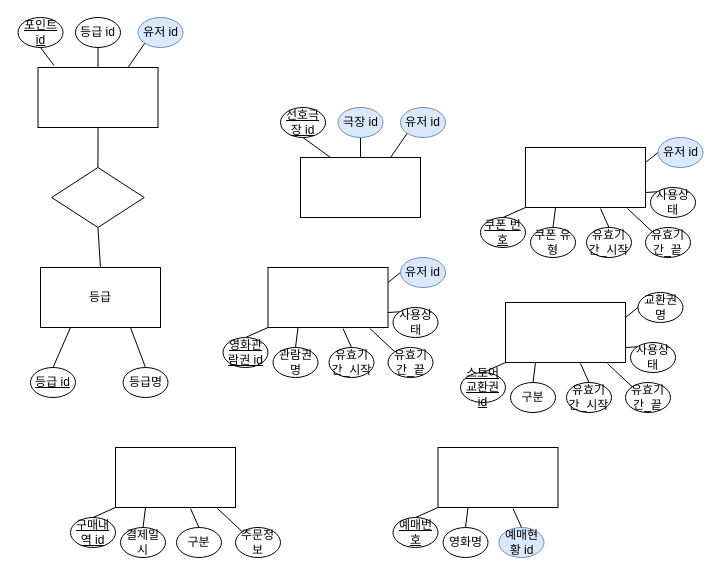
Image size: 720x575. Some labels were removed from this diagram. The shapes that lost their labels are listed below. From the top down, each one's centre as x and y in pixels, then its label:
[97,97]: 포인트
[97,197]: 소속
[360,187]: 선호하는 극장
[585,177]: 쿠폰
[327,297]: 영화관람권
[565,332]: 스토어 교환권
[175,477]: 구매내역
[497,477]: 예매내역
